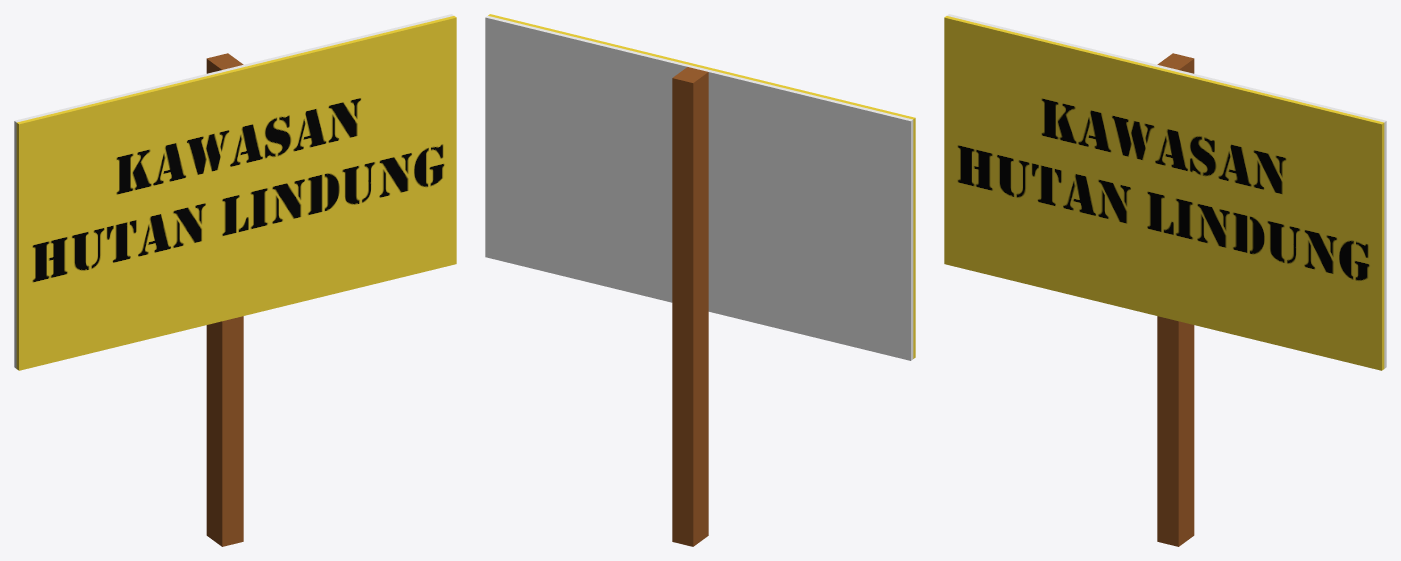
File: papan hutan.fbx
3 renders of one model, left to right at view 1: azimuth 30°, elevation 25°; view 2: azimuth 150°, elevation 25°; view 3: azimuth 330°, elevation 25°, orthographic. The views are drawn at different scales.
Parts seen in each view (by area): view 1: Cube; view 2: Cube; view 3: Cube.
Boxes of the visible parts, x1,y1,x2,y2 form: Cube: (14, 14, 456, 546); Cube: (485, 14, 915, 546); Cube: (944, 14, 1386, 546).
Size of the model in its own units: 364 by 379 by 29.82.
1 material, 1 textured.
